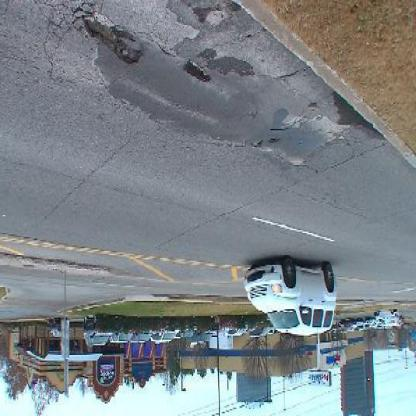pothole: (83, 13, 144, 69), (185, 64, 213, 89), (253, 138, 265, 154), (270, 139, 282, 150)
